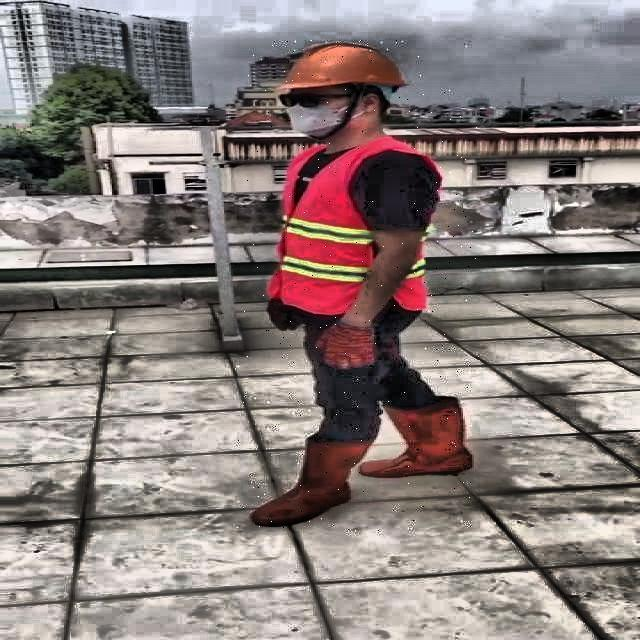safety_helmet: (274, 40, 410, 91)
safety_jacket: (276, 142, 432, 312)
